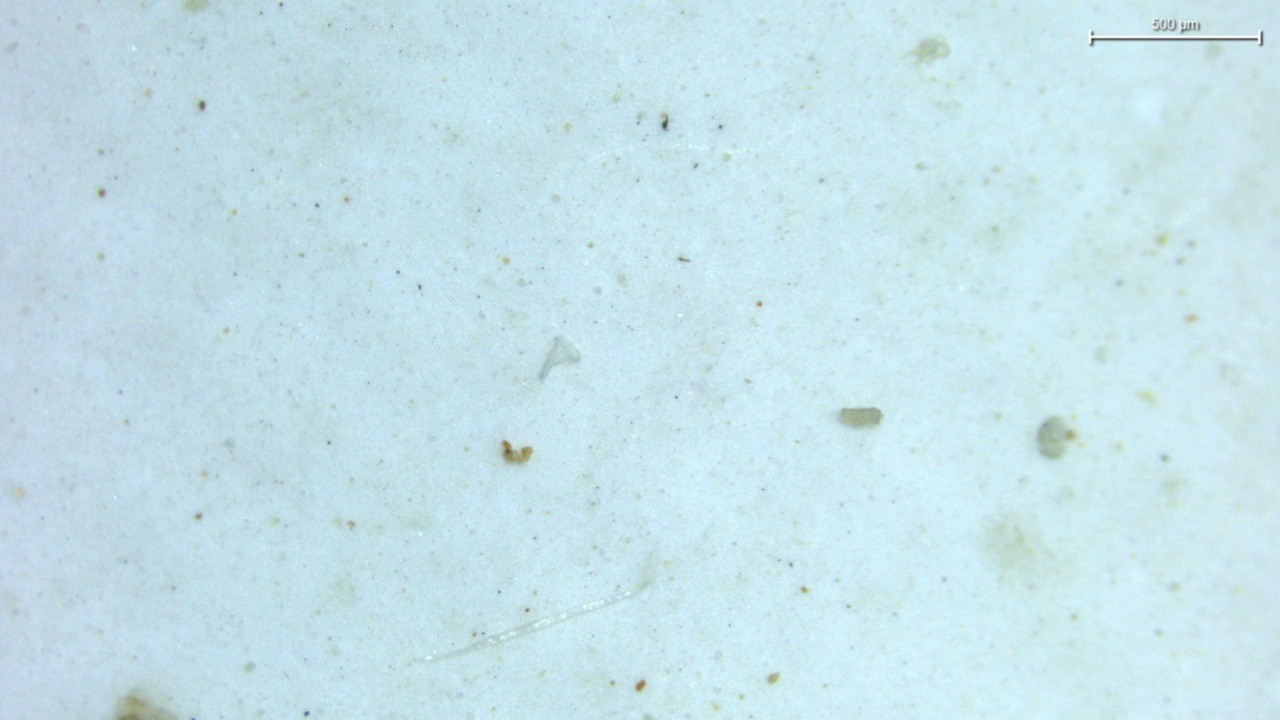microplastic_fragment: (539, 336, 580, 380)
